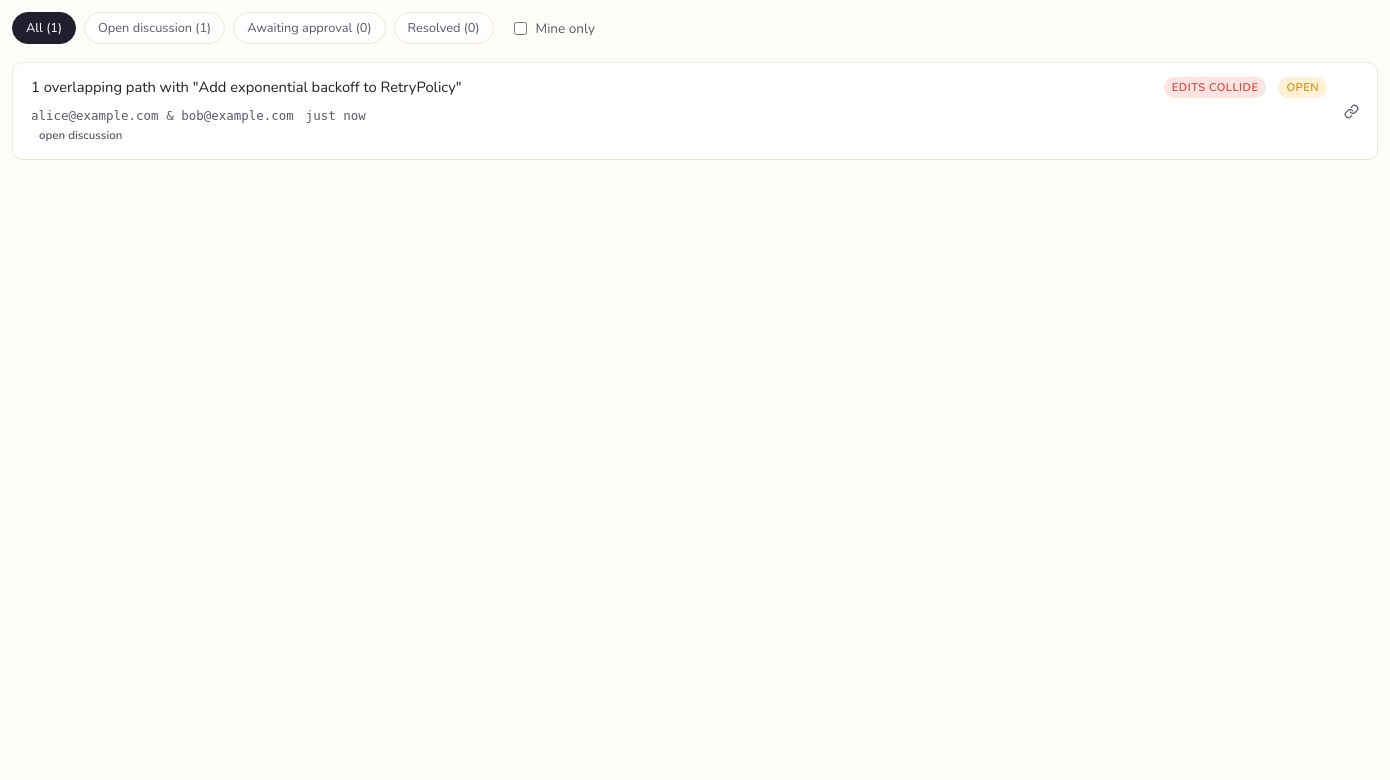
Scenario: ConflictsView › closing a thread updates its status badge and removes the reply form
What coordinates should you click on to do the following:
click the button "overlapping path with"
I would click on:
 (246, 87)
Its box is [13, 63, 1377, 159].
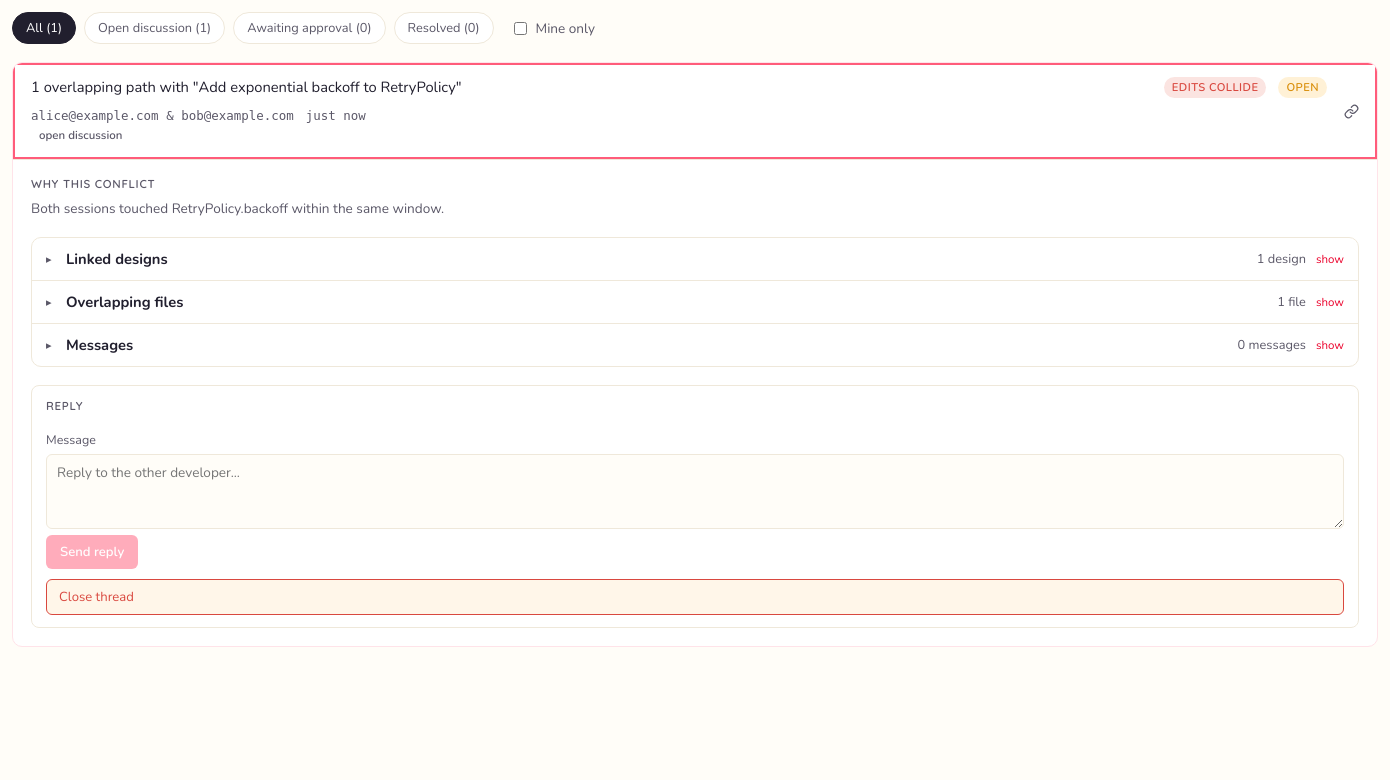
What coordinates should you click on to do the following:
click the button "Close thread"
I would click on:
 (96, 597)
Its box is [46, 579, 1344, 615].
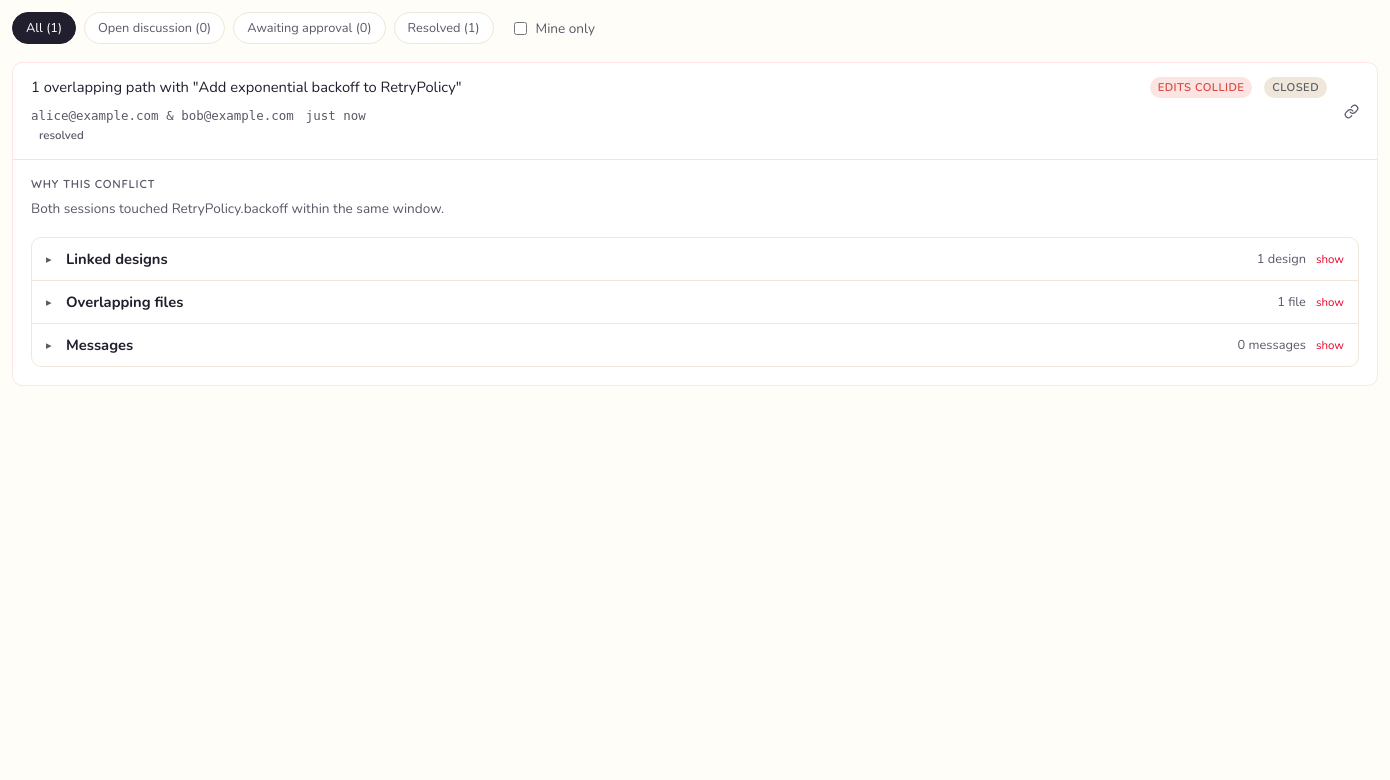
Result: the text "closed" is shown at [1264, 77, 1327, 98]
Result: the button "Close thread" is gone
